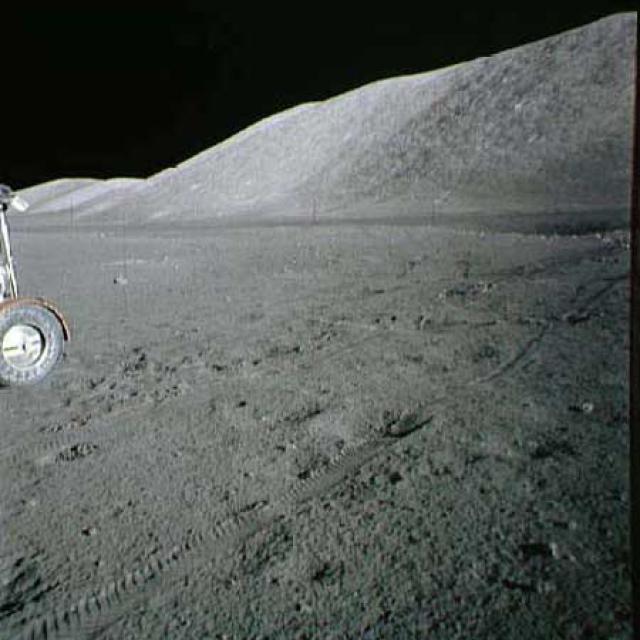artifact: (0, 180, 84, 388)
crater: (316, 393, 443, 446), (324, 303, 484, 338), (478, 424, 572, 466)
rock: (521, 577, 563, 604), (536, 534, 564, 562), (572, 398, 594, 417), (558, 512, 582, 528), (107, 272, 128, 290)
